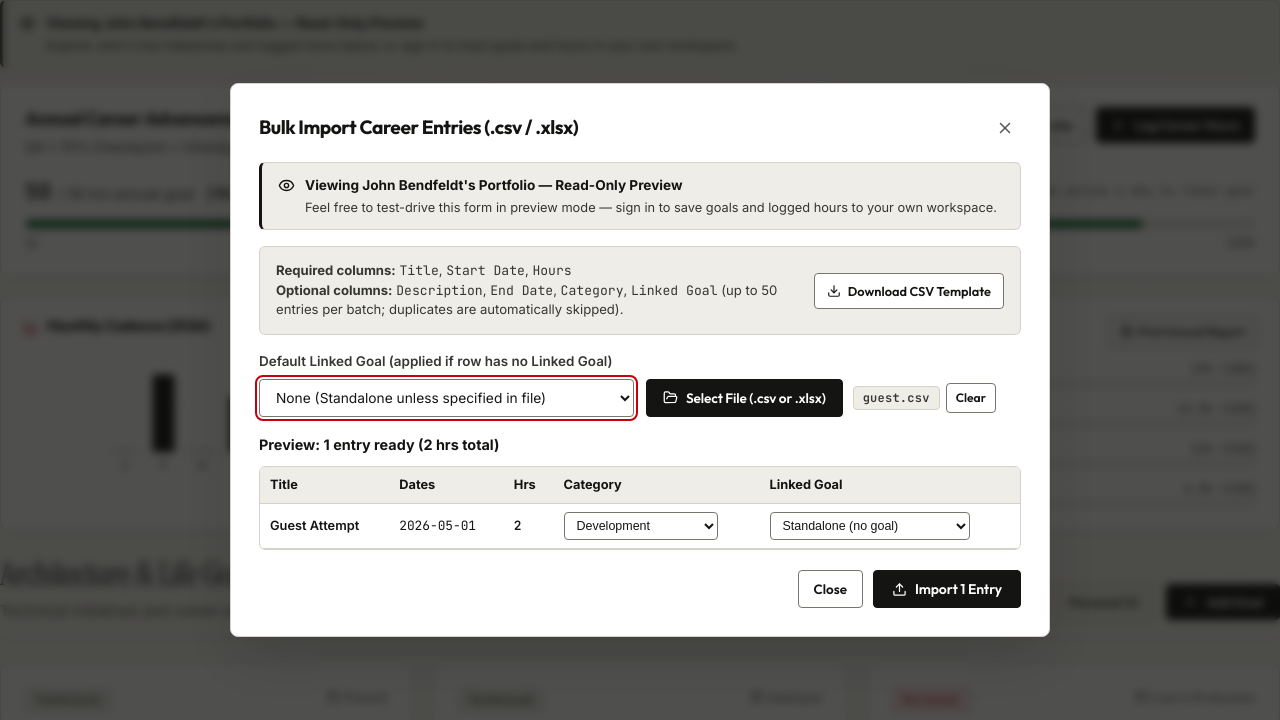
Career Advancement Phase 2: Bulk Import, .xlsx & .csv Export › ImportCareerEntriesModal & GoalsSection UI integration › surfaces 403 Forbidden policy notice when a guest submits a parsed import batch
This screenshot has width=1280, height=720.
Earlier steps of the test are not shown.
Expected: the text "Preview: 1 entry ready (2 hrs total)" is shown, top-left (259, 433), bottom-right (499, 456)
What coordinates should you click on to do the following:
click the button "Import 1 Entry"
I would click on:
 (947, 589)
Its box is top-left (873, 570), bottom-right (1021, 608).
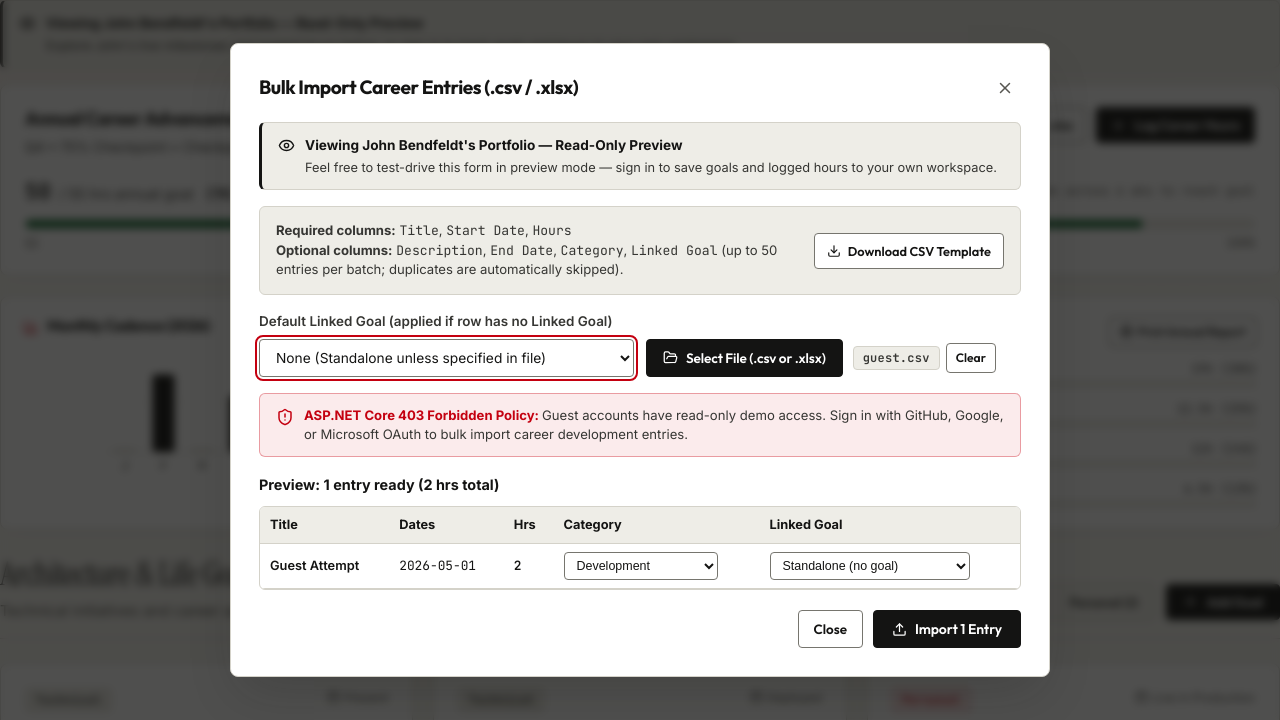
Expected: the text "ASP.NET Core 403 Forbidden Policy:" is shown, top-left (304, 407), bottom-right (542, 423)
